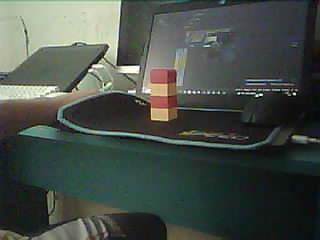lego: (149, 68, 178, 120)
